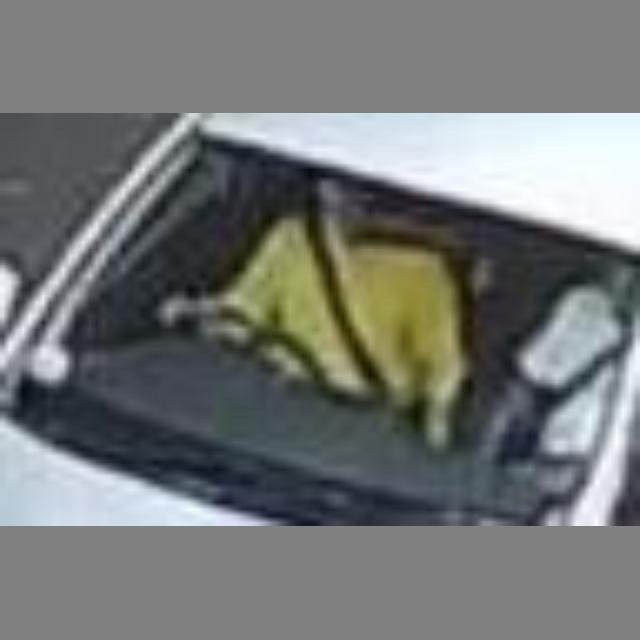pakai: (233, 173, 460, 420), (500, 253, 620, 460)
